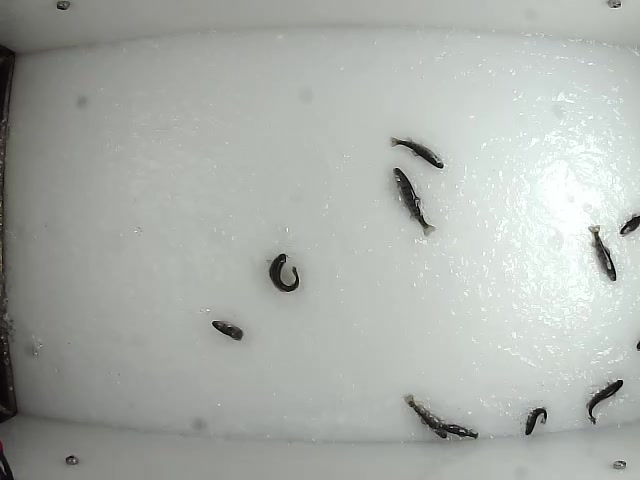fish: (390, 165, 438, 239), (403, 392, 451, 438), (584, 222, 619, 285), (387, 134, 446, 170), (585, 379, 623, 426), (265, 252, 301, 294), (209, 318, 255, 341), (521, 403, 548, 438), (436, 422, 480, 440)
